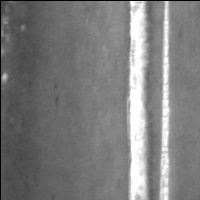inclusion: (49, 79, 63, 115)
scratches: (125, 1, 154, 200), (156, 1, 172, 200)
